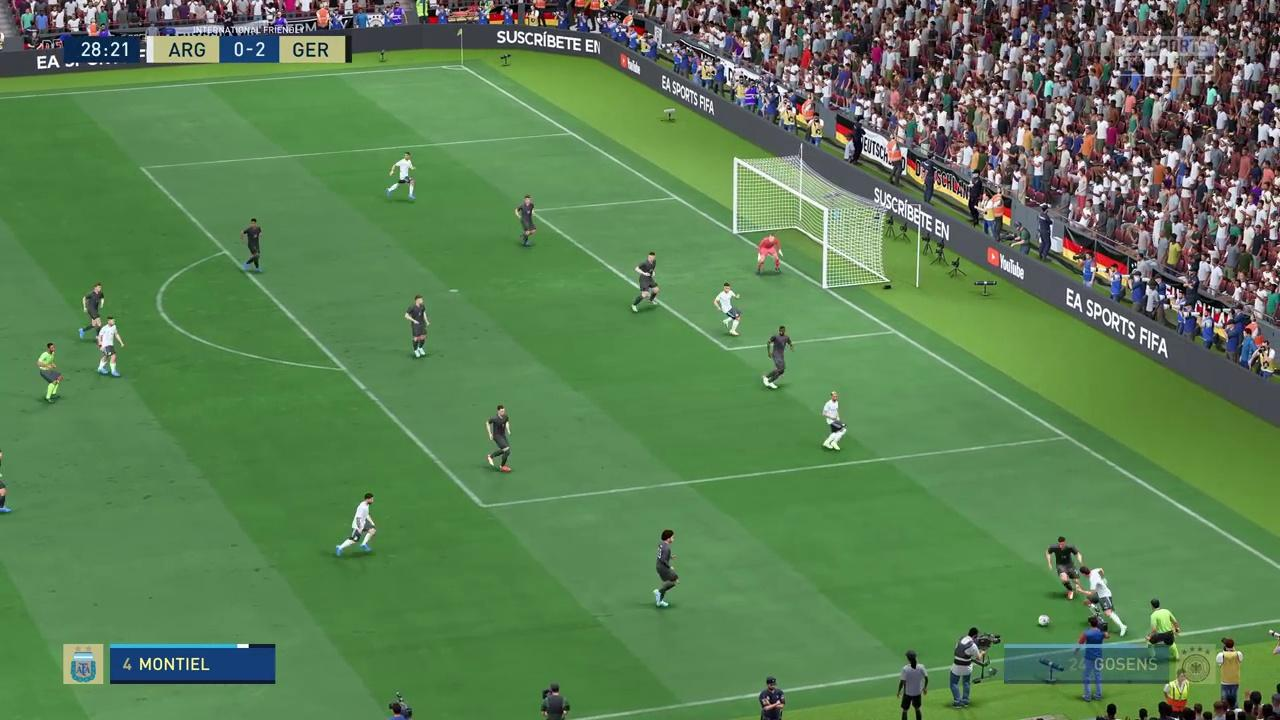scoreboard: (149, 36, 347, 64)
timestamp: (62, 35, 135, 61)
